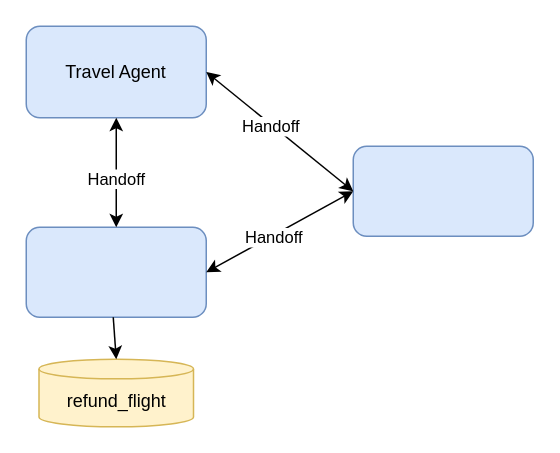
This 560x453 diagram has some shape labels left out. The centre of each missing label's shape, as x and y in pixels:
"Flights Refunder Agent" goes at pixel 115 271.
"User" goes at pixel 442 190.
